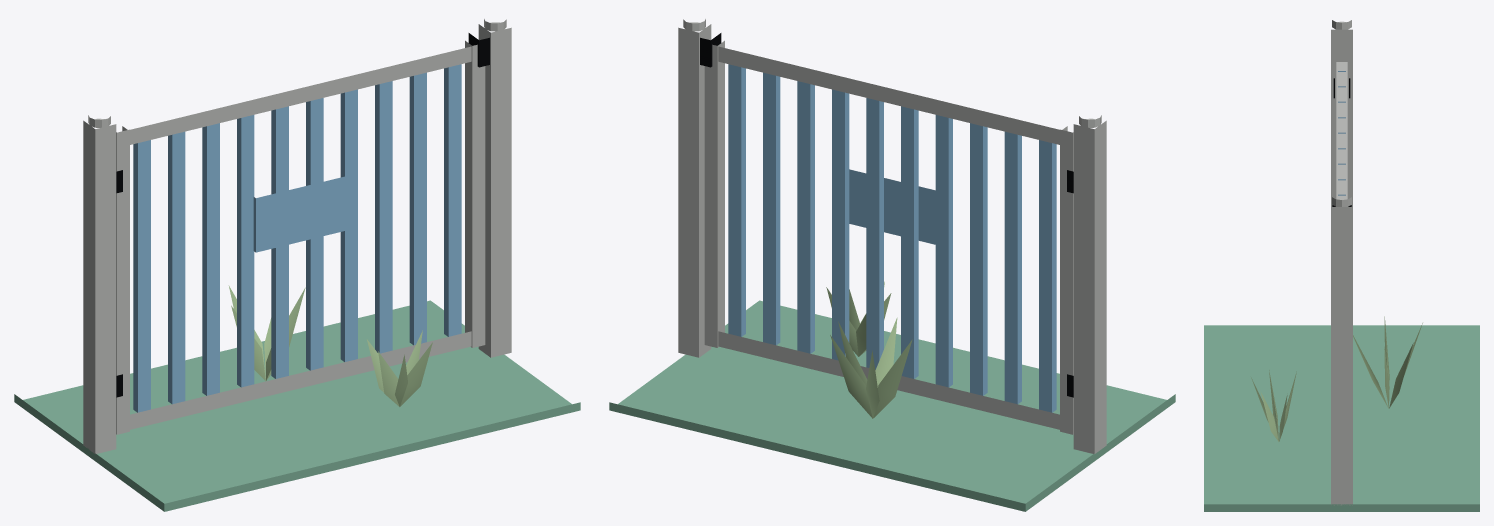
File: v5_gate.glb
The picture shows the model from 3 angles, left to right: view 1: azimuth 30°, elevation 25°; view 2: azimuth 150°, elevation 25°; view 3: azimuth 270°, elevation 25°; orthographic projection. The views are drawn at different scales.
Parts seen in each view (by area): view 1: Gate_Infill, Safety_Pad, Posts, Gate_Rails, Gate_Frame, Gate_Sign, Grass_Tufts; view 2: Gate_Infill, Safety_Pad, Posts, Gate_Rails, Gate_Frame, Grass_Tufts, Gate_Sign; view 3: Safety_Pad, Posts, Grass_Tufts, Gate_Rails, Gate_Frame, Post_Caps.
Part boxes in pixels (bbox=[...]): Gate_Infill: bbox=[133, 64, 461, 412]; Safety_Pad: bbox=[14, 300, 580, 511]; Posts: bbox=[83, 24, 511, 453]; Gate_Rails: bbox=[122, 46, 471, 429]; Gate_Frame: bbox=[116, 40, 485, 434]; Gate_Sign: bbox=[253, 175, 349, 252]; Grass_Tufts: bbox=[228, 285, 432, 406]; Gate_Infill: bbox=[728, 64, 1056, 412]; Safety_Pad: bbox=[609, 300, 1175, 511]; Posts: bbox=[678, 24, 1106, 453]; Gate_Rails: bbox=[718, 46, 1067, 429]; Gate_Frame: bbox=[704, 40, 1073, 434]; Grass_Tufts: bbox=[826, 281, 912, 418]; Gate_Sign: bbox=[849, 169, 935, 244]; Safety_Pad: bbox=[1204, 325, 1479, 511]; Posts: bbox=[1331, 29, 1352, 505]; Grass_Tufts: bbox=[1251, 316, 1422, 441]; Gate_Rails: bbox=[1336, 62, 1347, 199]; Gate_Frame: bbox=[1335, 47, 1348, 198]; Post_Caps: bbox=[1332, 20, 1351, 206].
Size of what is drawn, in the model's own units: 1.6 by 1.25 by 1.
Materials: 5 (1 with a texture image).
